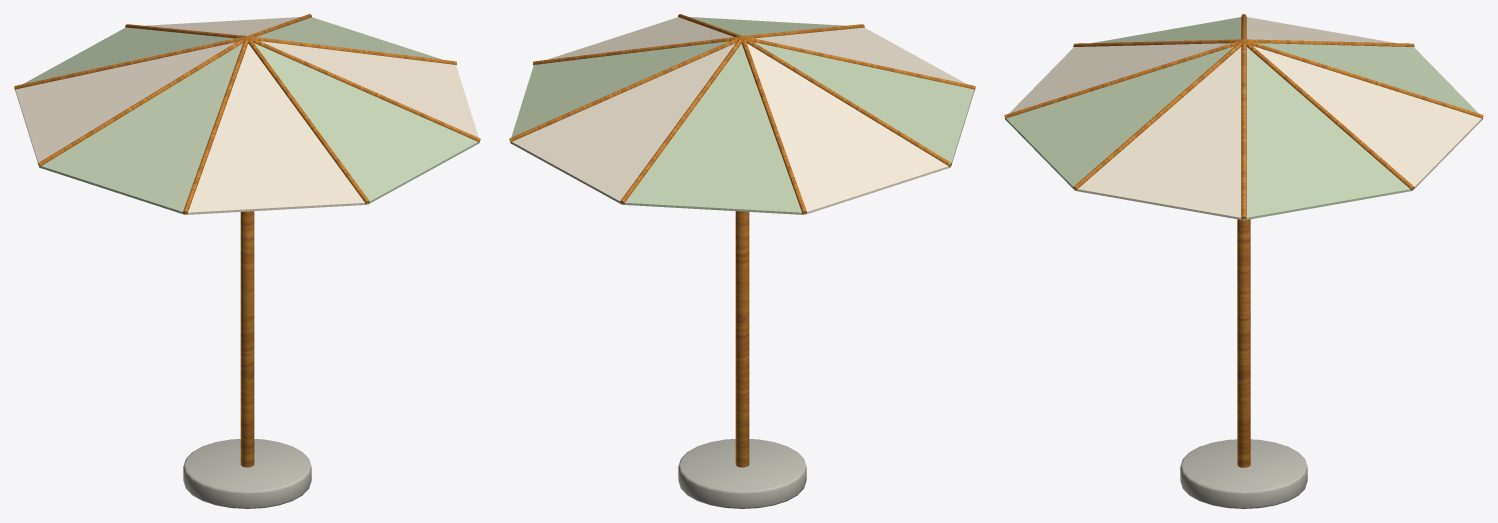
The model's file is patio-parasol.glb.
The picture shows the model from 3 angles, left to right: view 1: azimuth 30°, elevation 25°; view 2: azimuth 150°, elevation 25°; view 3: azimuth 270°, elevation 25°; orthographic projection.
Visible parts, largest first — view 1: patio-parasol; view 2: patio-parasol; view 3: patio-parasol.
Part boxes in pixels (x1,y1,x2,y2): patio-parasol: (14, 14, 480, 508); patio-parasol: (509, 14, 975, 508); patio-parasol: (1004, 14, 1483, 508).
Bounding box in the file's own units: 2.4 × 2.45 × 2.4.
4 materials, 1 textured.
